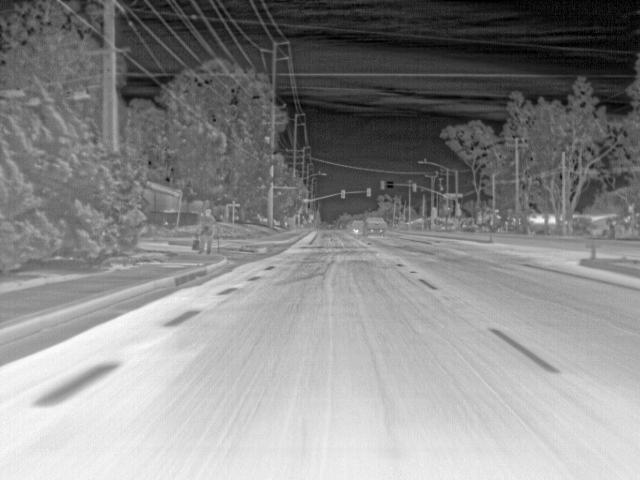car: (364, 215, 388, 234), (348, 220, 363, 234)
person: (195, 207, 218, 256)
